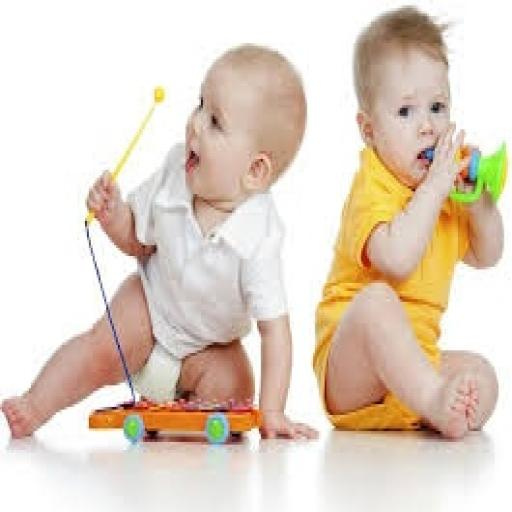baby: (87, 46, 316, 436), (313, 6, 504, 439)
